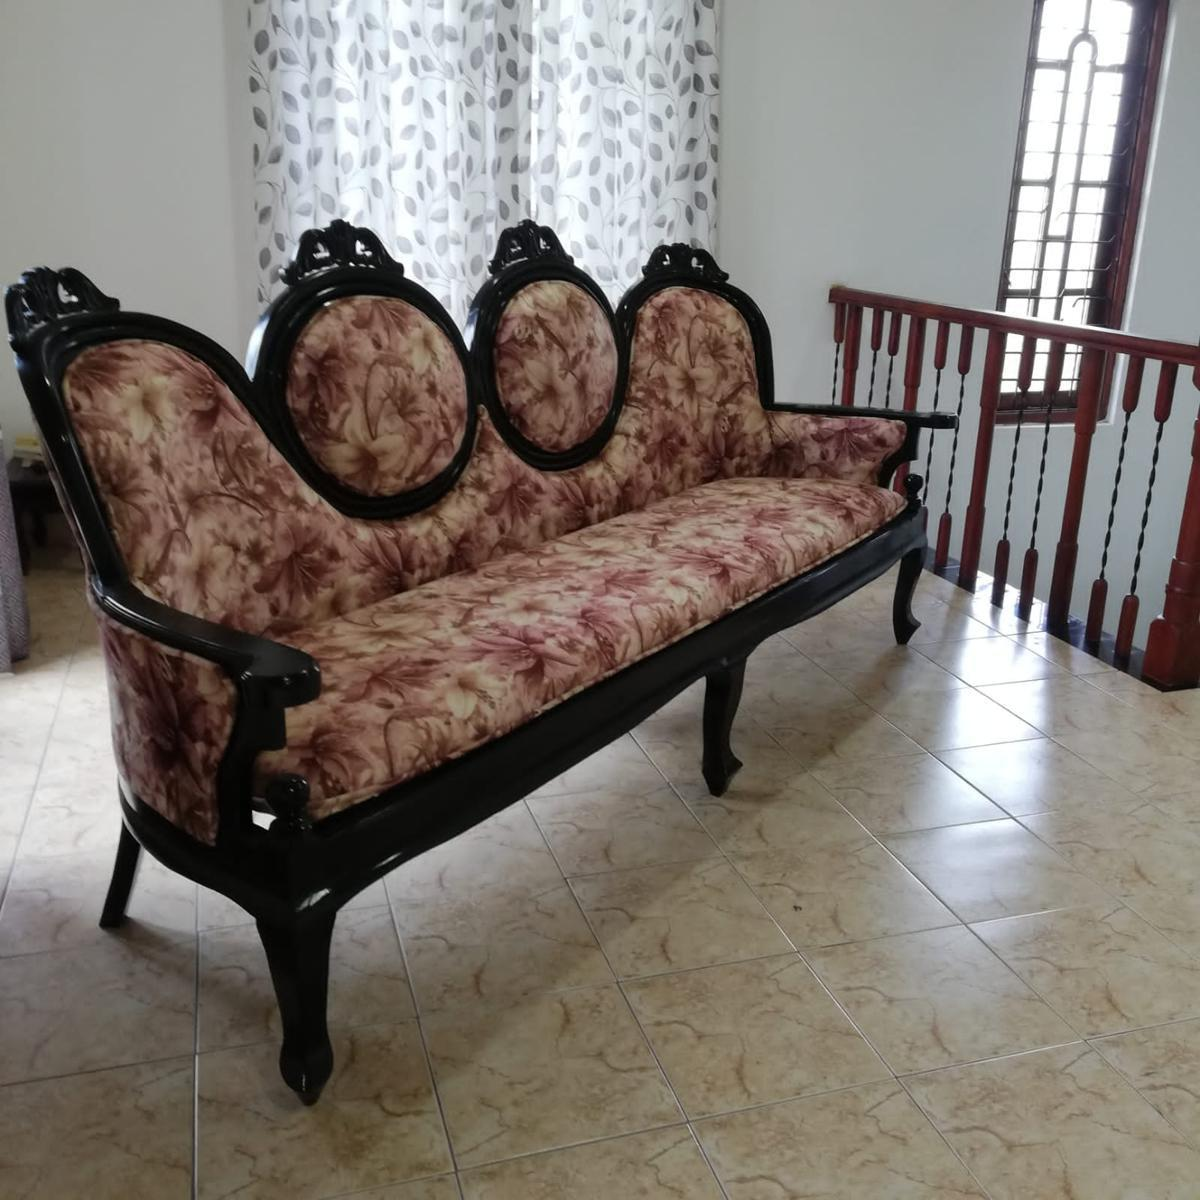Sofa: (4, 224, 923, 1106)
